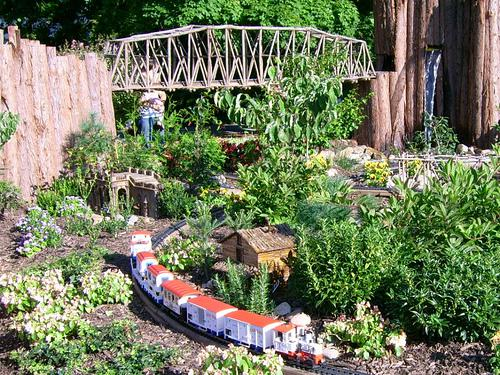Train: (129, 229, 333, 371)
